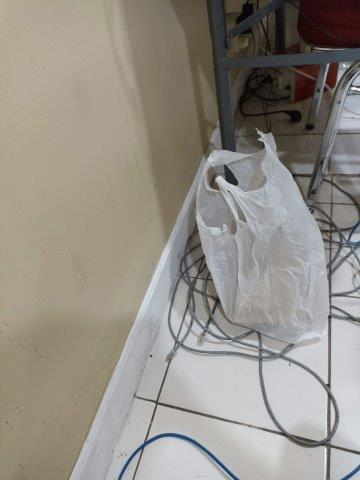plastik: (195, 130, 327, 344)
